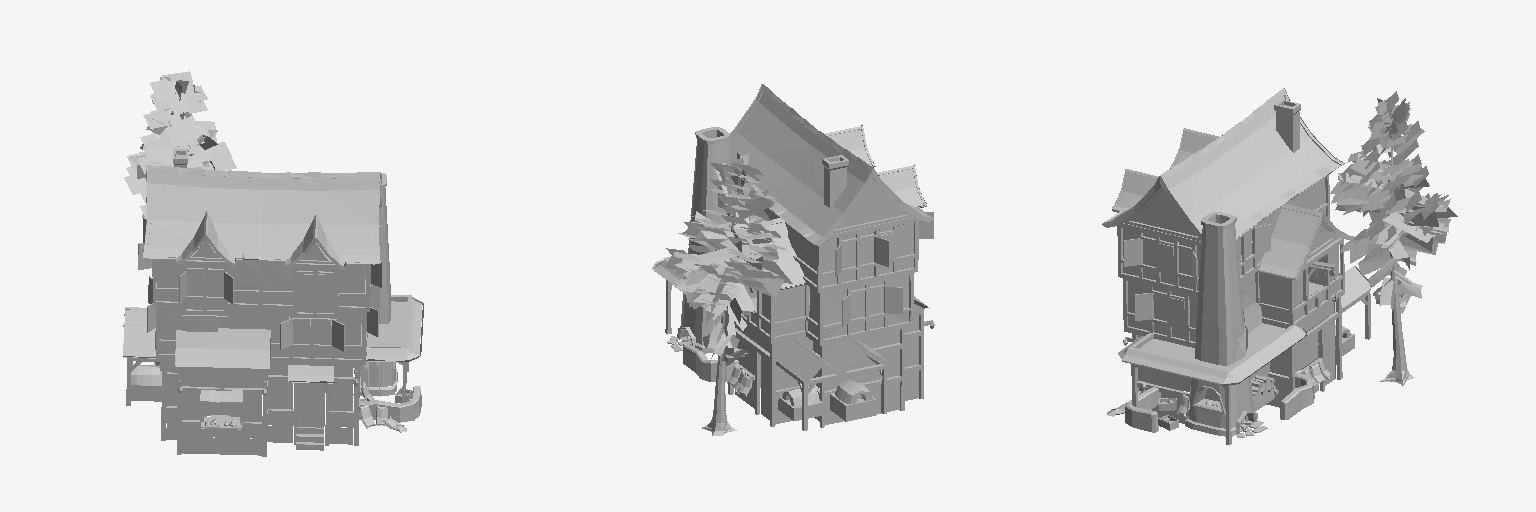
The model's file is medieval_store_norms.obj.
3 views of the same model, side by side, from view 1: azimuth 30°, elevation 25°; view 2: azimuth 150°, elevation 25°; view 3: azimuth 270°, elevation 25° (orthographic).
Visible parts, largest first — view 1: Mesh.006_DrawCall_7, Mesh.004_DrawCall_2, Mesh.007_DrawCall_6, Mesh.002_DrawCall18, Mesh.003_DrawCall_1, Mesh.008_DrawCall_9, Mesh.005_DrawCall_5, Mesh_DrawCall19; view 2: Mesh.004_DrawCall_2, Mesh.006_DrawCall_7, Mesh.007_DrawCall_6, Mesh_DrawCall19, Mesh.002_DrawCall18, Mesh.008_DrawCall_9, Mesh.001_DrawCall20, Mesh.003_DrawCall_1; view 3: Mesh.004_DrawCall_2, Mesh.006_DrawCall_7, Mesh.007_DrawCall_6, Mesh_DrawCall19, Mesh.002_DrawCall18, Mesh.003_DrawCall_1, Mesh.001_DrawCall20, Mesh.008_DrawCall_9.
Boxes of the visible parts, box(x1,y1,x2,y2) form: Mesh.006_DrawCall_7: box(123, 165, 421, 381); Mesh.004_DrawCall_2: box(123, 171, 423, 456); Mesh.007_DrawCall_6: box(123, 149, 406, 455); Mesh.002_DrawCall18: box(124, 71, 236, 218); Mesh.003_DrawCall_1: box(160, 260, 333, 331); Mesh.008_DrawCall_9: box(159, 271, 358, 395); Mesh.005_DrawCall_5: box(297, 383, 324, 427); Mesh_DrawCall19: box(130, 77, 217, 217); Mesh.004_DrawCall_2: box(652, 84, 933, 430); Mesh.006_DrawCall_7: box(654, 84, 933, 381); Mesh.007_DrawCall_6: box(655, 155, 932, 424); Mesh_DrawCall19: box(664, 153, 783, 366); Mesh.002_DrawCall18: box(666, 162, 792, 304); Mesh.008_DrawCall_9: box(842, 225, 934, 328); Mesh.001_DrawCall20: box(702, 171, 740, 435); Mesh.003_DrawCall_1: box(694, 225, 931, 325); Mesh.004_DrawCall_2: box(1102, 88, 1370, 444); Mesh.006_DrawCall_7: box(1103, 88, 1370, 383); Mesh.007_DrawCall_6: box(1120, 99, 1350, 436); Mesh_DrawCall19: box(1330, 98, 1457, 313); Mesh.002_DrawCall18: box(1331, 91, 1450, 258); Mesh.003_DrawCall_1: box(1126, 178, 1325, 363); Mesh.001_DrawCall20: box(1380, 146, 1414, 385); Mesh.008_DrawCall_9: box(1123, 230, 1251, 345).
Size of the model in its own units: 6.47 by 6.37 by 7.15.